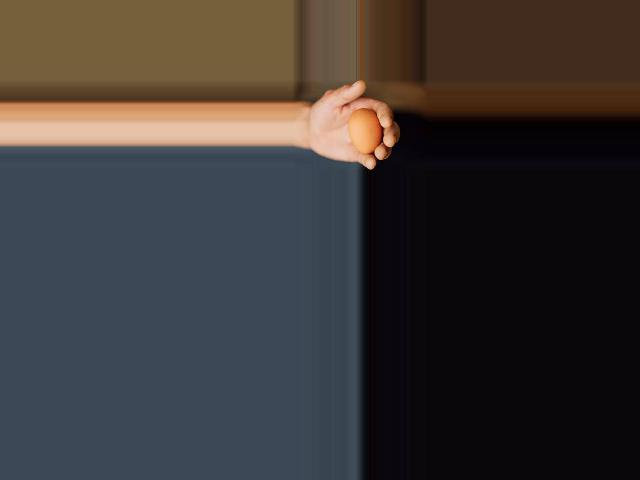egg: (348, 109, 380, 154)
